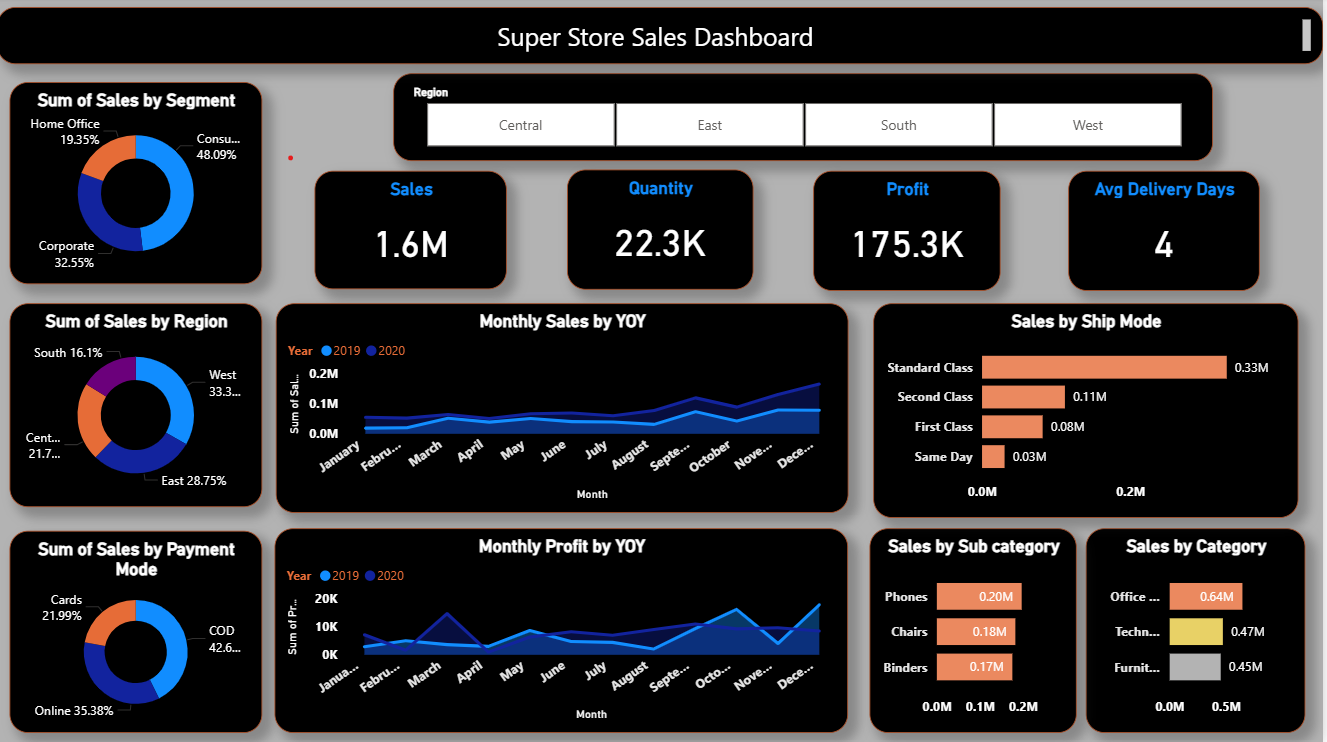

What the dashboard file says about the page in this screenshot:
{"tool":"powerbi","page":{"name":"Sales Dashboard","canvas":[1280,720],"ordinal":0},"visuals":[{"type":"clusteredBarChart","title":"Sales by Category","fields":{"Category":["SuperStore_Sales_Dataset.Category"],"Y":["Sum(SuperStore_Sales_Dataset.Sales)"]},"box":[1050.8,512.7,212.3,197.9],"z":0},{"type":"clusteredBarChart","title":"Sales by Sub category","fields":{"Category":["SuperStore_Sales_Dataset.Sub-Category"],"Y":["Sum(SuperStore_Sales_Dataset.Sales)"]},"box":[842.1,512.7,200.3,197.9],"z":1000},{"type":"clusteredBarChart","title":"Sales by Ship Mode","fields":{"Category":["SuperStore_Sales_Dataset.Ship Mode"],"Y":["Sum(SuperStore_Sales_Dataset.Sales)"]},"box":[845.7,295.6,410.2,207.5],"z":2000},{"type":"donutChart","fields":{"Category":["SuperStore_Sales_Dataset.Segment"],"Y":["Sum(SuperStore_Sales_Dataset.Sales)"]},"box":[12.1,82,243.7,195.4],"z":3000},{"type":"donutChart","fields":{"Category":["SuperStore_Sales_Dataset.Region"],"Y":["Sum(SuperStore_Sales_Dataset.Sales)"]},"box":[12.1,295.6,243.7,196.6],"z":4000},{"type":"donutChart","fields":{"Category":["SuperStore_Sales_Dataset.Payment Mode"],"Y":["Sum(SuperStore_Sales_Dataset.Sales)"]},"box":[12.1,515.2,243.7,195.4],"z":5000},{"type":"slicer","fields":{"Values":["SuperStore_Sales_Dataset.Region"]},"box":[382.4,73.6,791.4,84.5],"z":6000},{"type":"textbox","box":[0,9.7,1280,55.5],"z":7000},{"type":"card","title":"Sales","fields":{"Values":["Sum(SuperStore_Sales_Dataset.Sales)"]},"box":[306.4,167.7,185.8,114.6],"z":8000},{"type":"card","title":"Quantity","fields":{"Values":["Sum(SuperStore_Sales_Dataset.Quantity)"]},"box":[550.1,166.5,179.8,115.8],"z":9000},{"type":"card","title":"Profit","fields":{"Values":["Sum(SuperStore_Sales_Dataset.Profit)"]},"box":[787.8,167.7,181,115.8],"z":10000},{"type":"card","title":"Avg Delivery Days","fields":{"Values":["Avg(SuperStore_Sales_Dataset.AvgDelivery)"]},"box":[1033.9,167.7,184.6,115.8],"z":11000},{"type":"areaChart","title":"Monthly Sales by YOY","fields":{"Category":["SuperStore_Sales_Dataset.Order Date.Variation.Date Hierarchy.Month"],"Y":["Sum(SuperStore_Sales_Dataset.Sales)"],"Series":["SuperStore_Sales_Dataset.Order Date.Variation.Date Hierarchy.Year"]},"box":[269,295.6,552.5,202.7],"z":12000},{"type":"areaChart","title":"Monthly Profit by YOY","fields":{"Category":["SuperStore_Sales_Dataset.Order Date.Variation.Date Hierarchy.Month"],"Series":["SuperStore_Sales_Dataset.Order Date.Variation.Date Hierarchy.Year"],"Y":["Sum(SuperStore_Sales_Dataset.Profit)"]},"box":[267.8,512.7,553.8,197.9],"z":13000}]}

Visuals, with their boxes in screenshot pixels (x1, y1, x2, y2), scaled from the page's 1280x720 canvas onto the 1327x742 screenshot:
"Sales by Category" clusteredBarChart: 1089/528/1309/732
"Sales by Sub category" clusteredBarChart: 873/528/1081/732
"Sales by Ship Mode" clusteredBarChart: 877/305/1302/518
donutChart - SuperStore_Sales_Dataset.Segment x Sum(SuperStore_Sales_Dataset.Sales): 13/85/265/286
donutChart - SuperStore_Sales_Dataset.Region x Sum(SuperStore_Sales_Dataset.Sales): 13/305/265/507
donutChart - SuperStore_Sales_Dataset.Payment Mode x Sum(SuperStore_Sales_Dataset.Sales): 13/531/265/732
slicer - SuperStore_Sales_Dataset.Region: 396/76/1217/163
textbox: 0/10/1326/67
"Sales" card: 318/173/510/291
"Quantity" card: 570/172/757/291
"Profit" card: 817/173/1004/292
"Avg Delivery Days" card: 1072/173/1263/292
"Monthly Sales by YOY" areaChart: 279/305/852/514
"Monthly Profit by YOY" areaChart: 278/528/852/732
